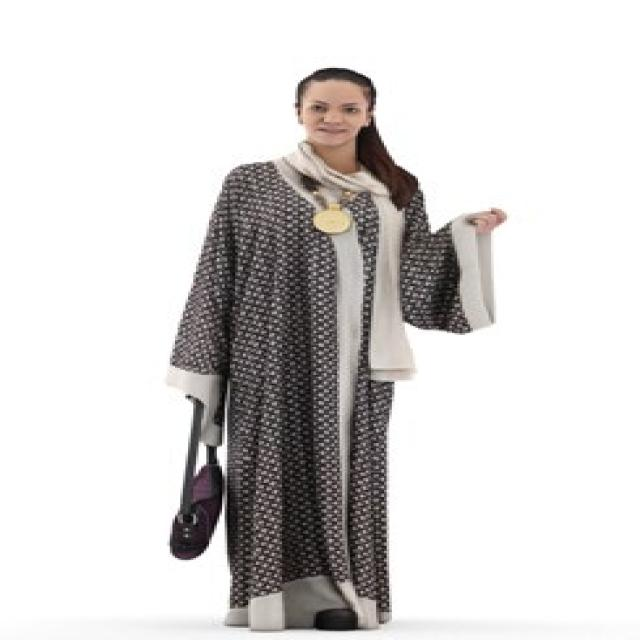standing: (156, 66, 525, 640)
